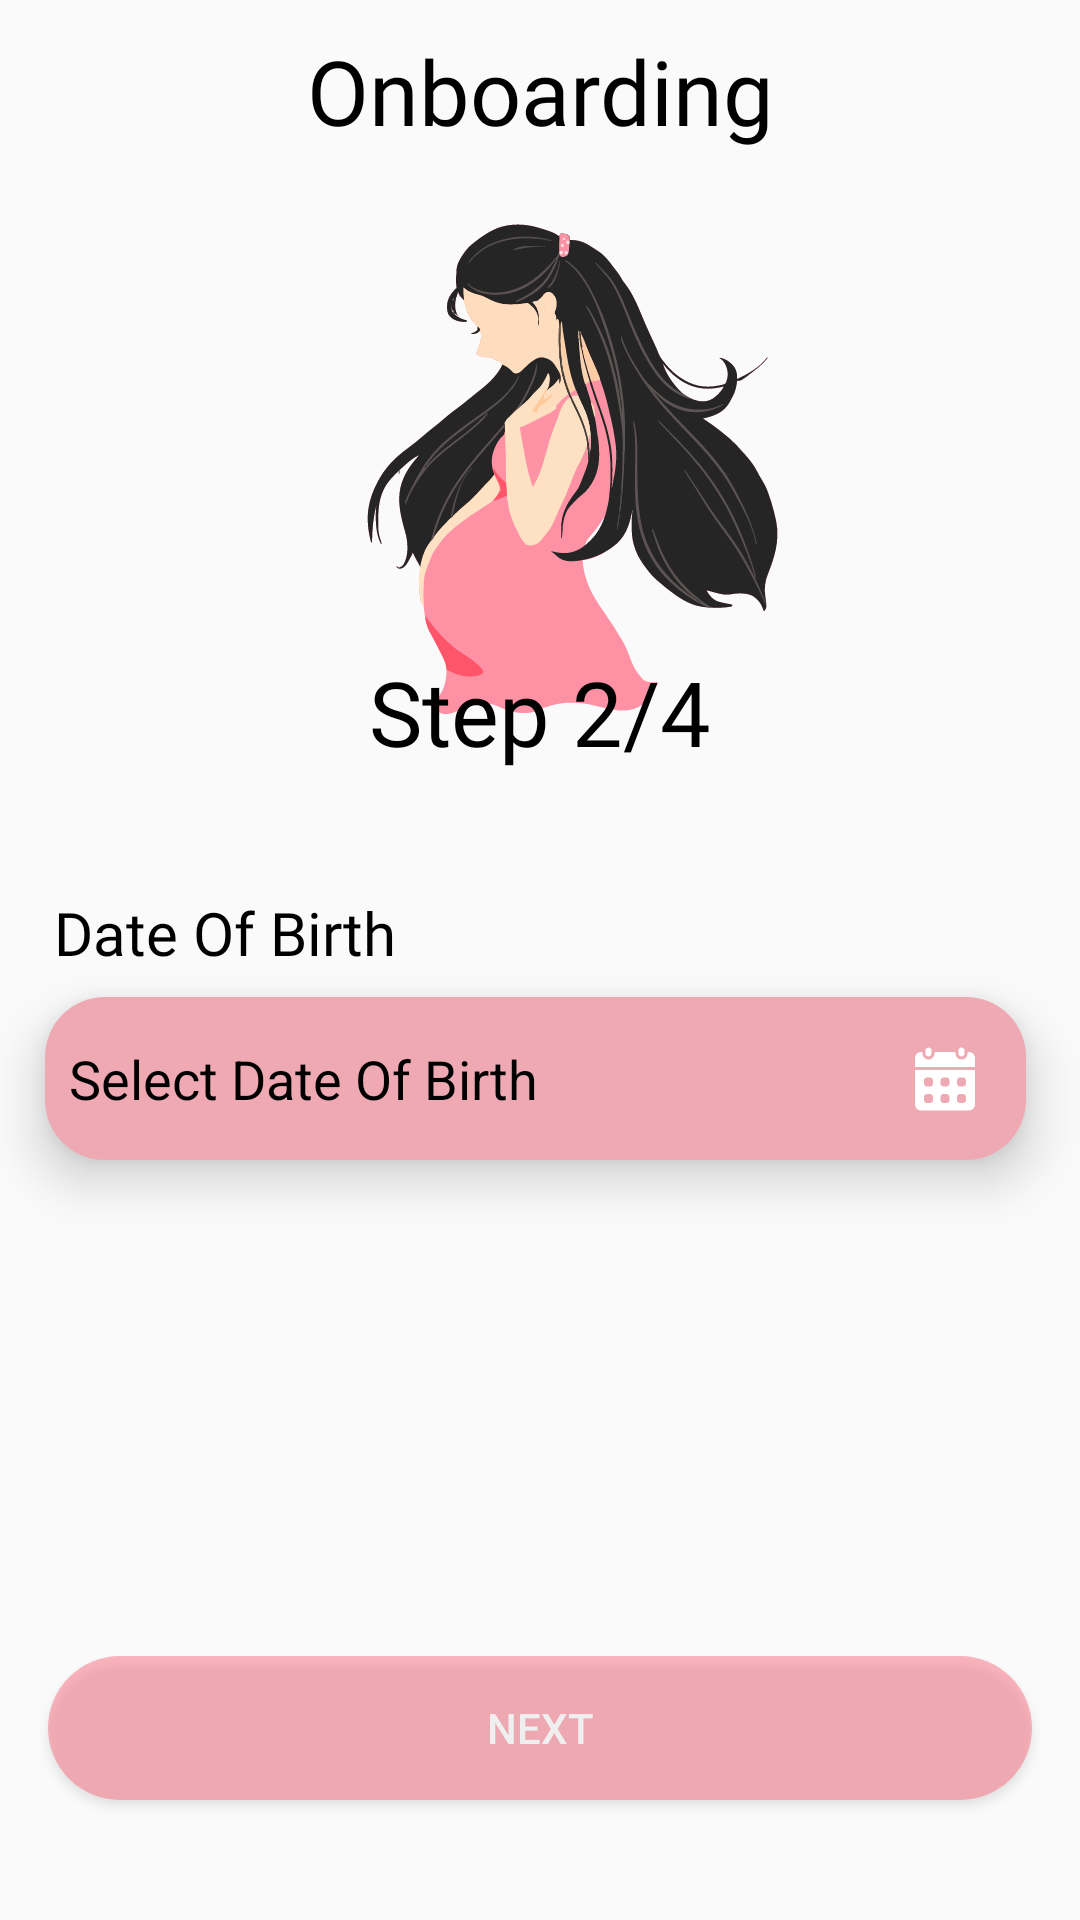

Icon click points for this 1080*1920 phone screenshot, format (x=x, y=y):
calendar: (x=945, y=1079)
